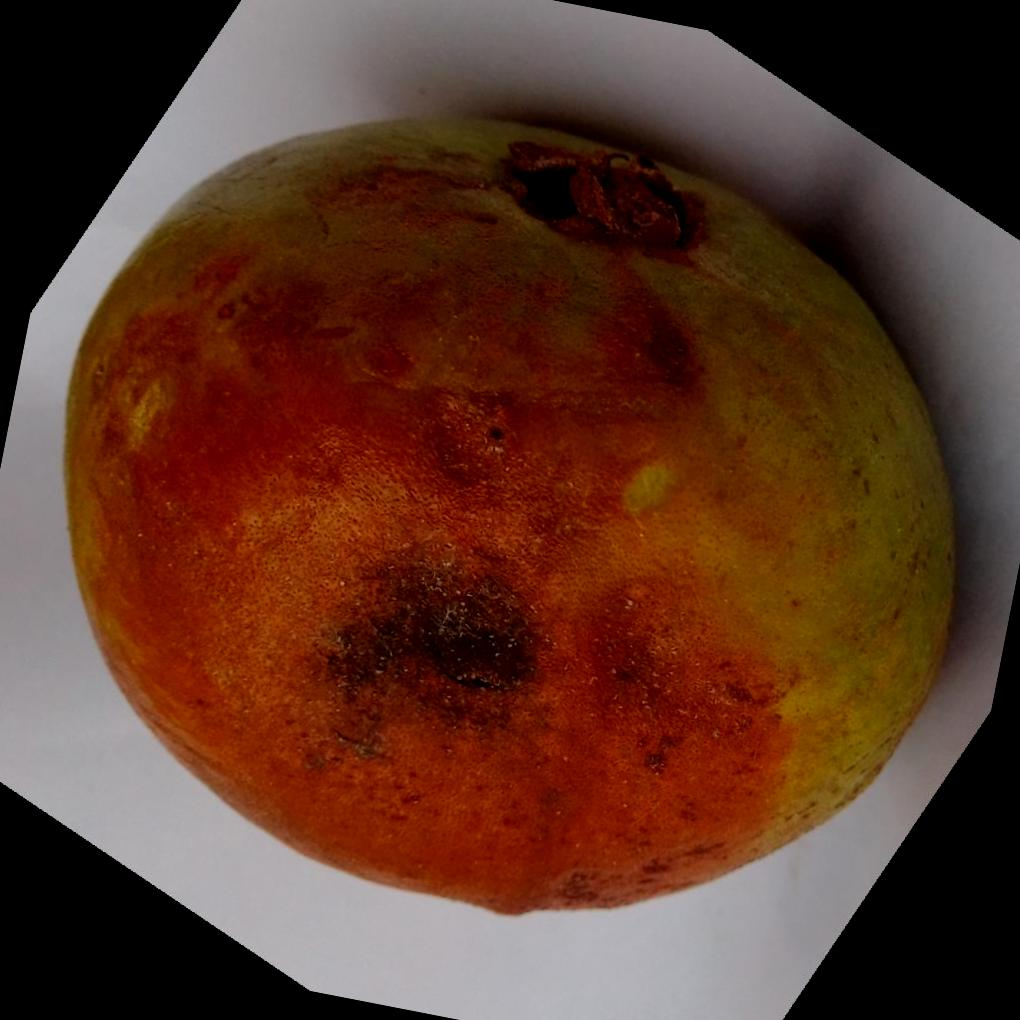FreshOrange: (63, 108, 959, 914)
